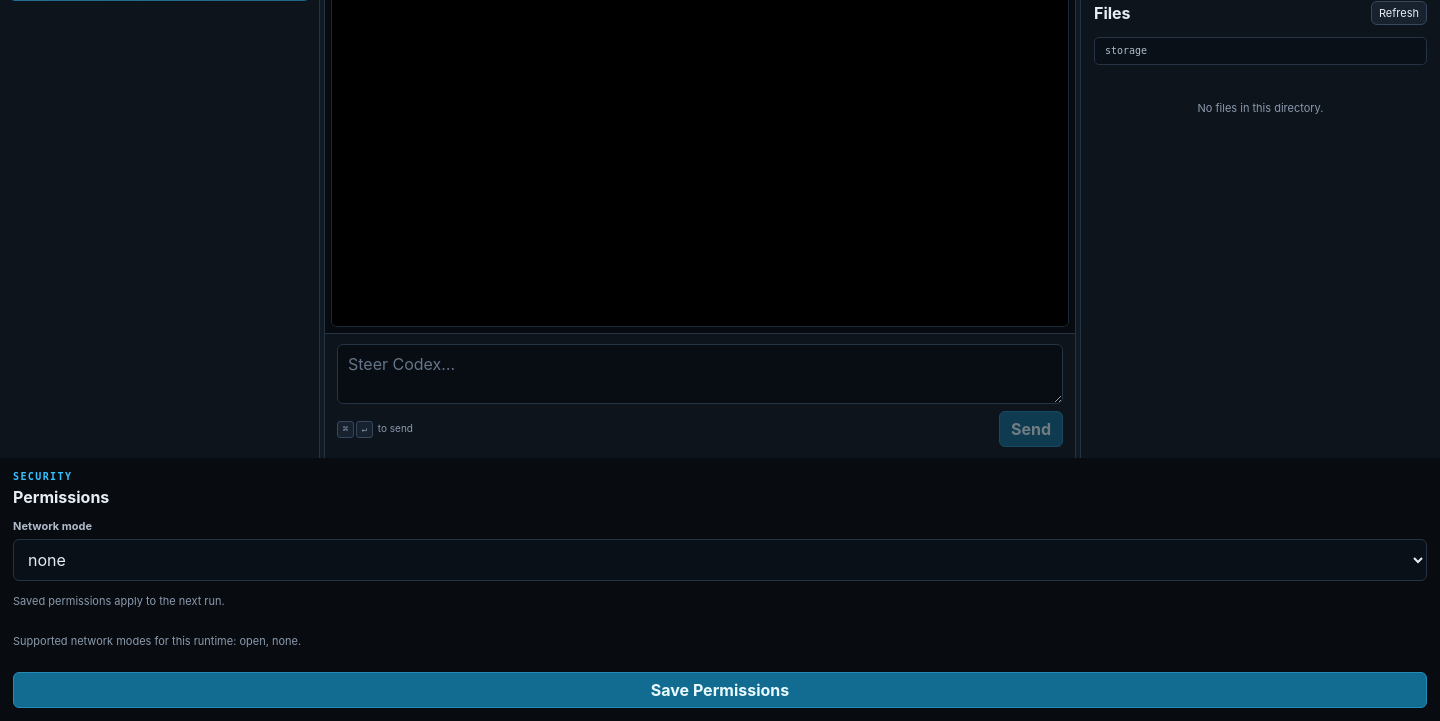
Test case: client smoke tests › loads saved permissions independently of task metadata and preserves mounts when saving
(page scrolled)
Expected: the text "Supported network modes for this runtime: open, none." is shown, [13,634,301,648]
Select "open" in the dropdown labelled "Network mode" at {"x": 720, "y": 560}, box [13,539,1427,581]
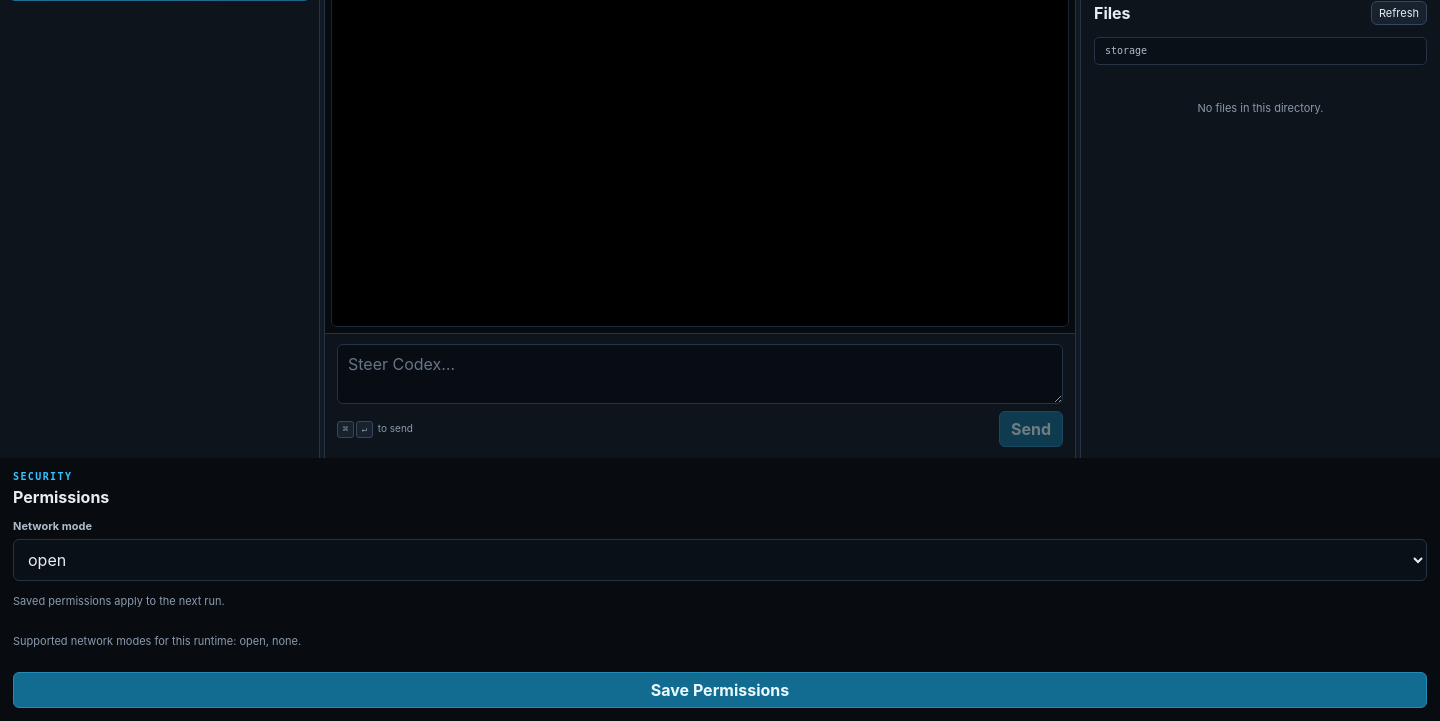
Click the button "Save Permissions" at {"x": 720, "y": 690}, box [13,672,1427,708]
(page scrolled)
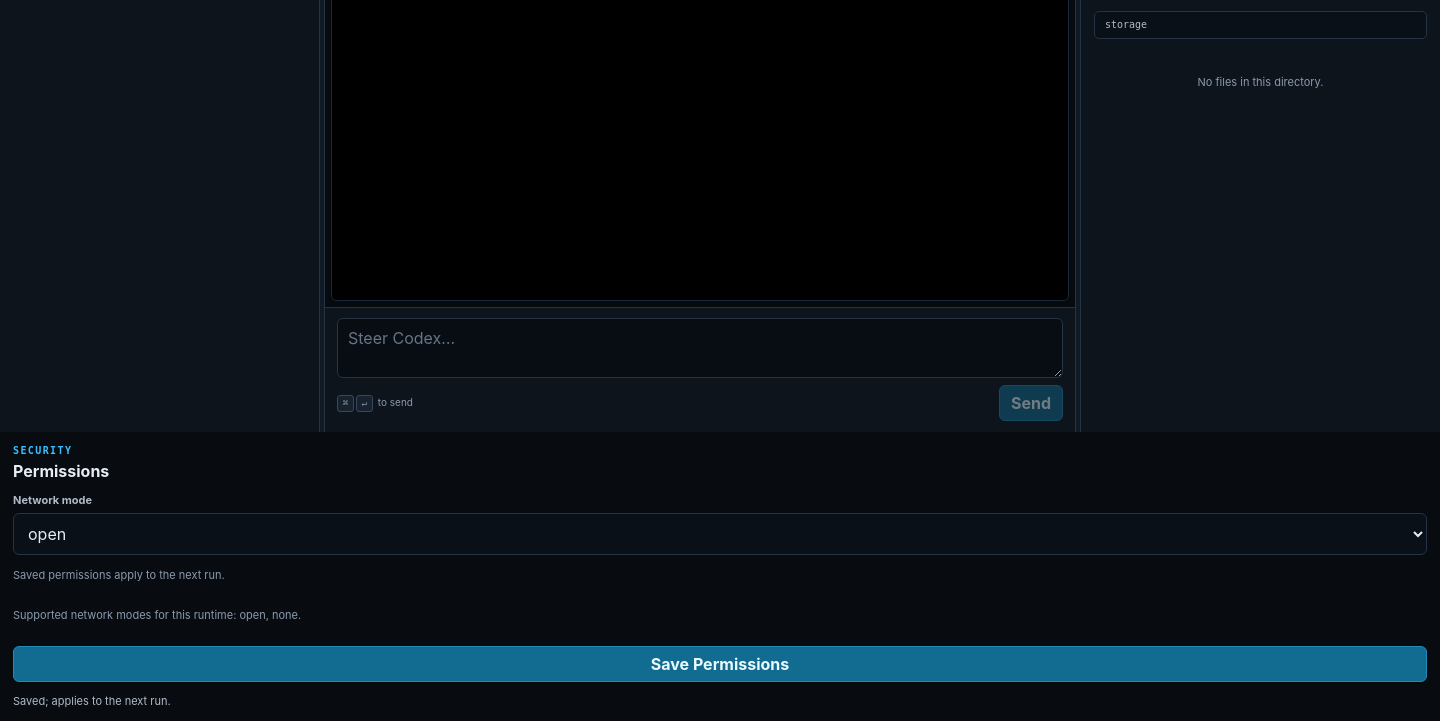
Expected: the text "Saved; applies to the next run." is shown, [13,694,171,708]
